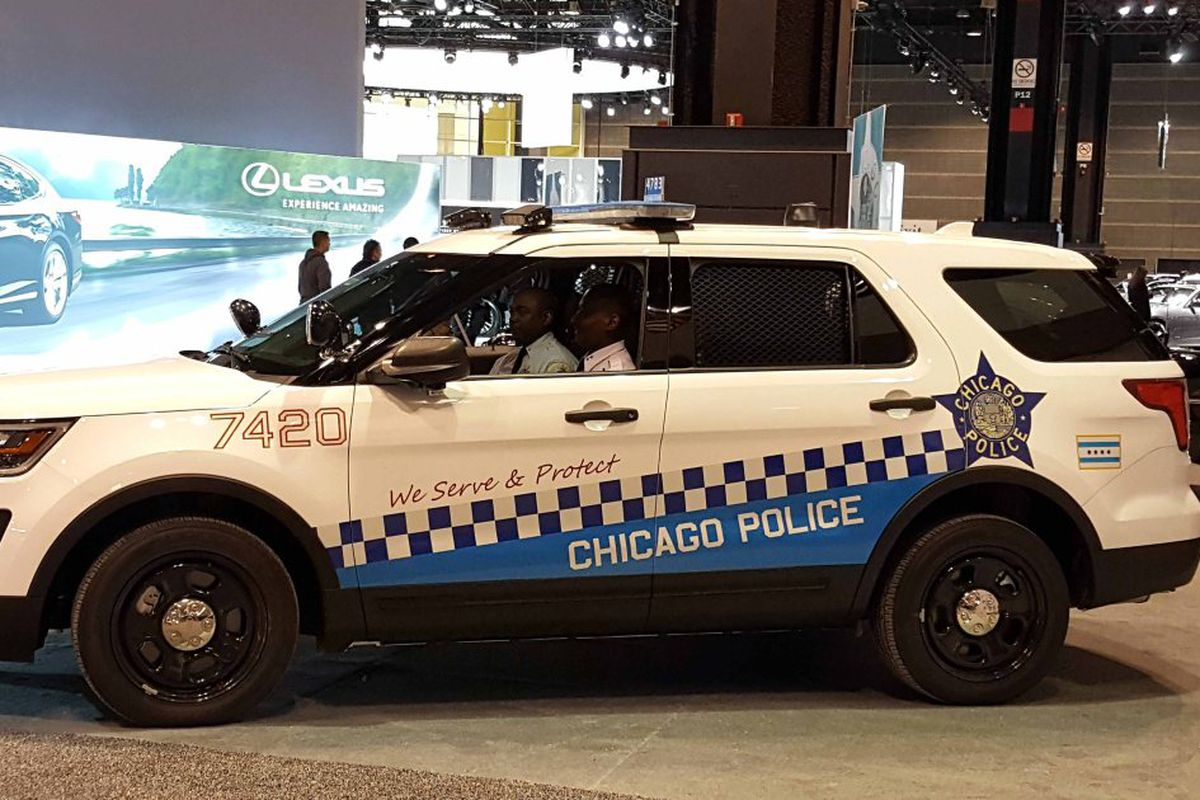special: (3, 206, 1200, 732)
